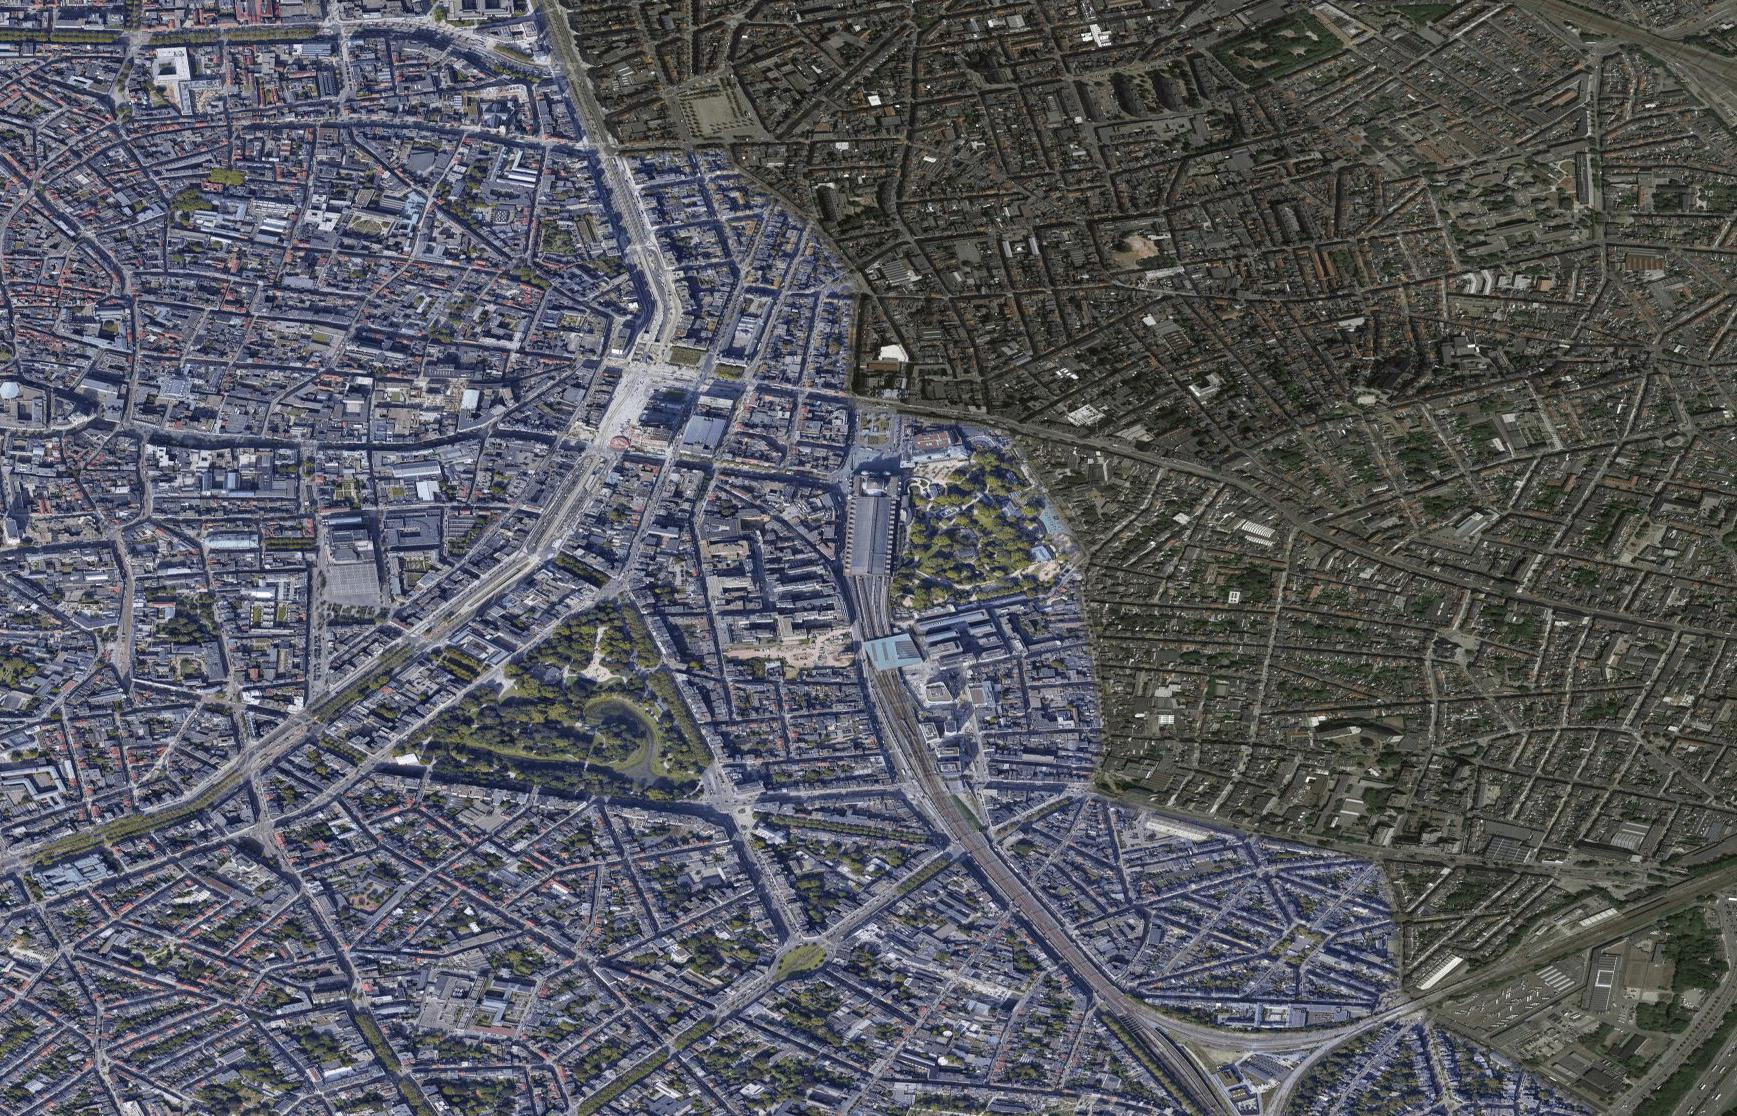motorway: (1603, 969, 1737, 1115)
train_station: (831, 464, 906, 592)
